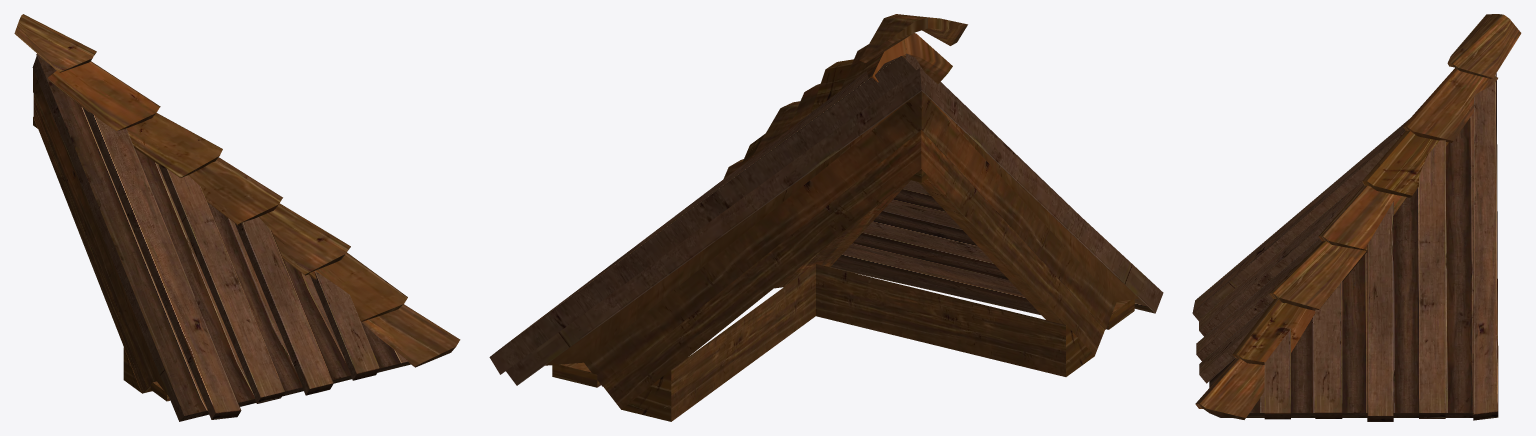
3 renders of one model, left to right at view 1: azimuth 30°, elevation 25°; view 2: azimuth 150°, elevation 25°; view 3: azimuth 270°, elevation 25°, orthographic. The views are drawn at different scales.
Parts seen in each view (by area): view 1: SM_BB_T2_Roof_Med_Hip_LOD0; view 2: SM_BB_T2_Roof_Med_Hip_LOD0; view 3: SM_BB_T2_Roof_Med_Hip_LOD0.
Boxes of the visible parts, x1,y1,x2,y2 form: SM_BB_T2_Roof_Med_Hip_LOD0: (14, 14, 460, 421); SM_BB_T2_Roof_Med_Hip_LOD0: (489, 14, 1163, 421); SM_BB_T2_Roof_Med_Hip_LOD0: (1192, 14, 1521, 421).
Size of the model in its own units: 2.38 by 2.28 by 2.4.
Materials: 2 (2 with a texture image).
